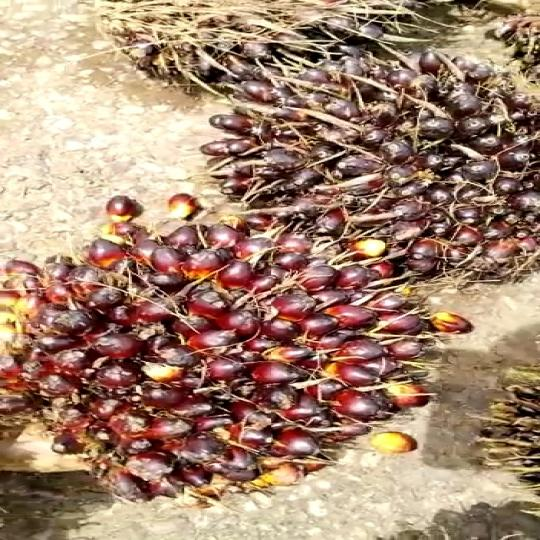kurang masak: (0, 211, 487, 502), (185, 53, 540, 289)
